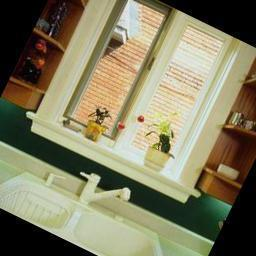Lavaplatos: (0, 125, 205, 256)
